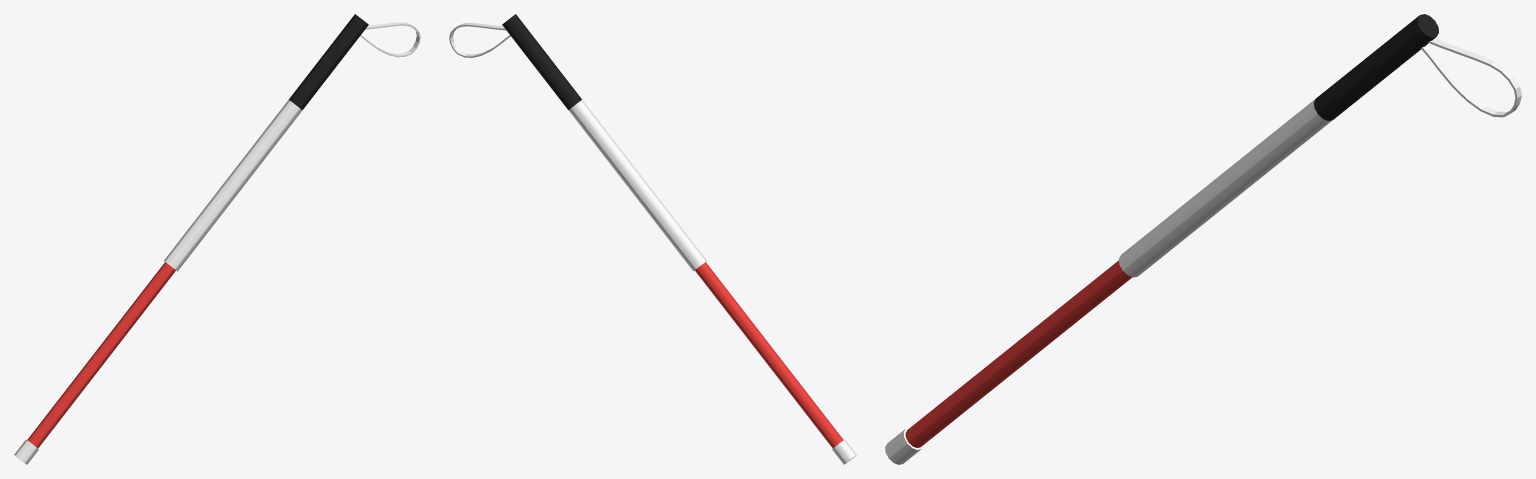
File: white_cane.gltf
3 renders of one model, left to right at view 1: azimuth 30°, elevation 25°; view 2: azimuth 150°, elevation 25°; view 3: azimuth 330°, elevation 25°, orthographic. The views are drawn at different scales.
Visible parts, largest first — view 1: Cube.1000; view 2: Cube.1000; view 3: Cube.1000.
Part boxes in pixels (x1,y1,x2,y2): Cube.1000: (14, 14, 420, 464); Cube.1000: (449, 14, 856, 464); Cube.1000: (885, 14, 1521, 464).
Bounding box in the file's own units: 2.23 × 1.94 × 0.0841.
1 material, 1 textured.
